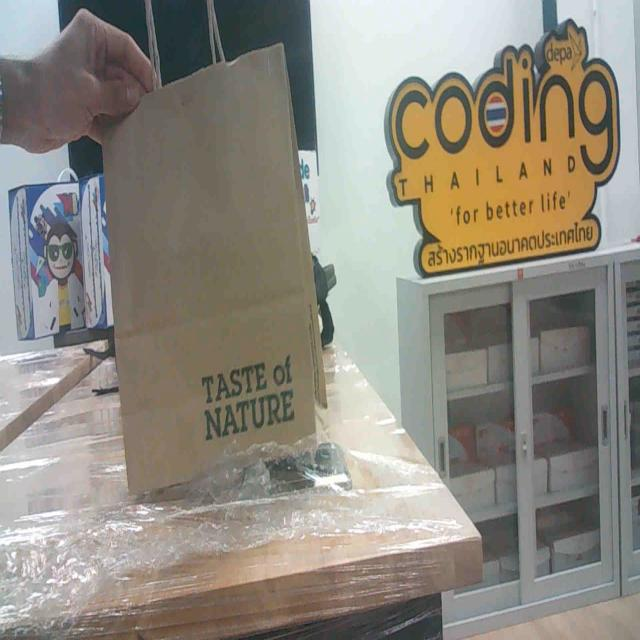bag: (93, 108, 321, 480)
